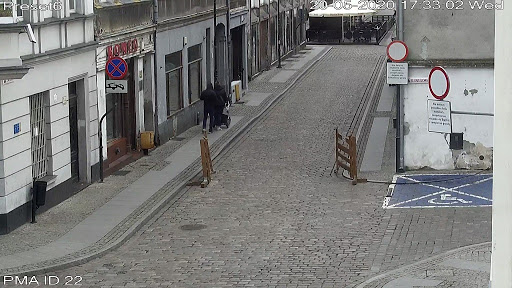no_entry_sign: (429, 67, 450, 100), (386, 41, 407, 61)
